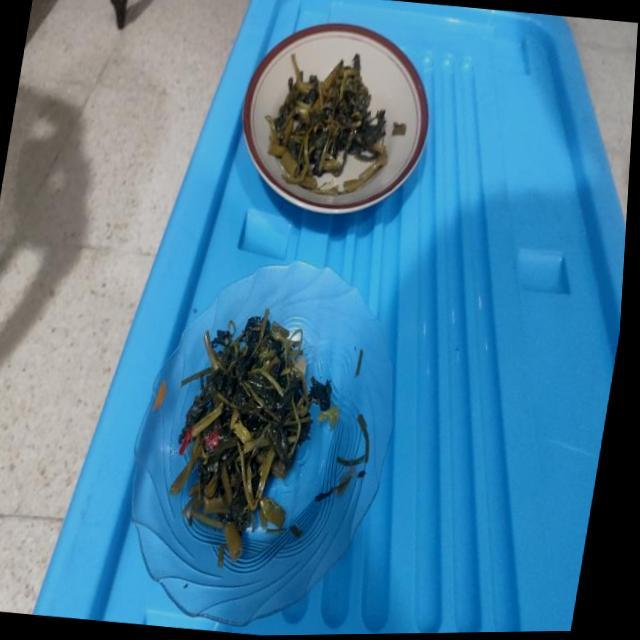tumis_kangkung: (170, 310, 312, 560), (264, 53, 386, 195)
